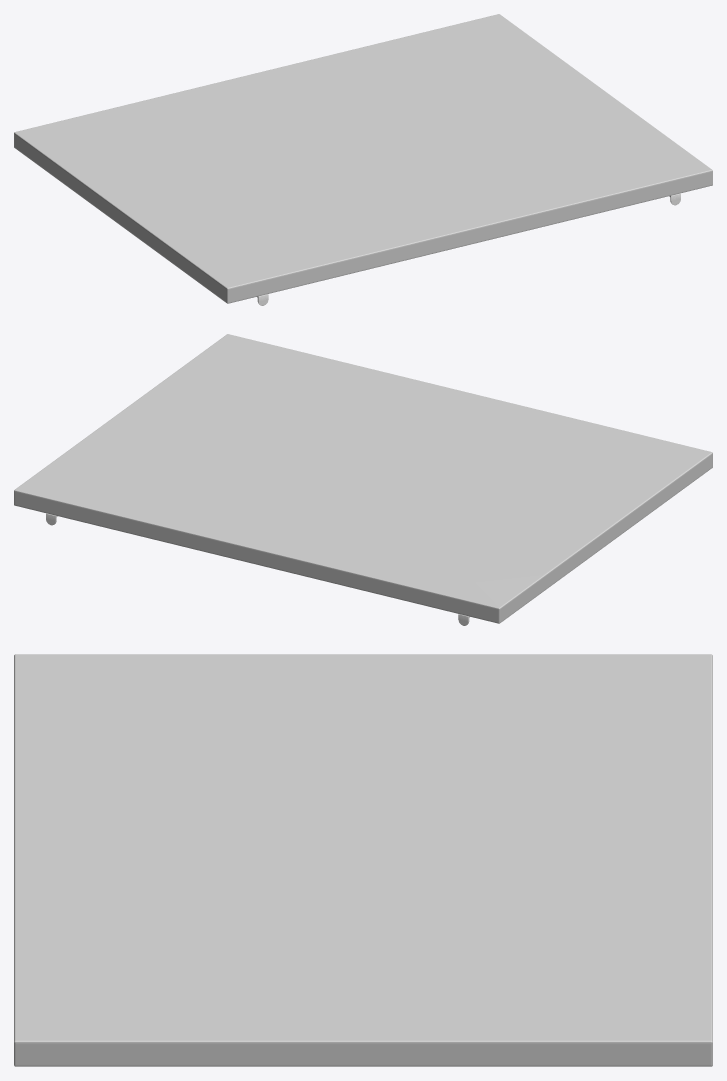
File: Kitchen02Shelf.fbx
The picture shows the model from 3 angles, top to bottom: view 1: azimuth 30°, elevation 25°; view 2: azimuth 150°, elevation 25°; view 3: azimuth 270°, elevation 25°; orthographic projection. The views are drawn at different scales.
Visible parts, largest first — view 1: Kitchen02Shelf; view 2: Kitchen02Shelf; view 3: Kitchen02Shelf.
Boxes of the visible parts, <box> form: Kitchen02Shelf: <box>14,14,712,305</box>; Kitchen02Shelf: <box>14,334,712,625</box>; Kitchen02Shelf: <box>14,654,712,1066</box>.
Bounding box in the file's own units: 48.29 × 36.8 × 2.49.
Materials: 2 (1 with a texture image).
